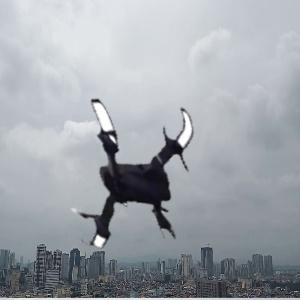drone: (41, 90, 224, 273)
